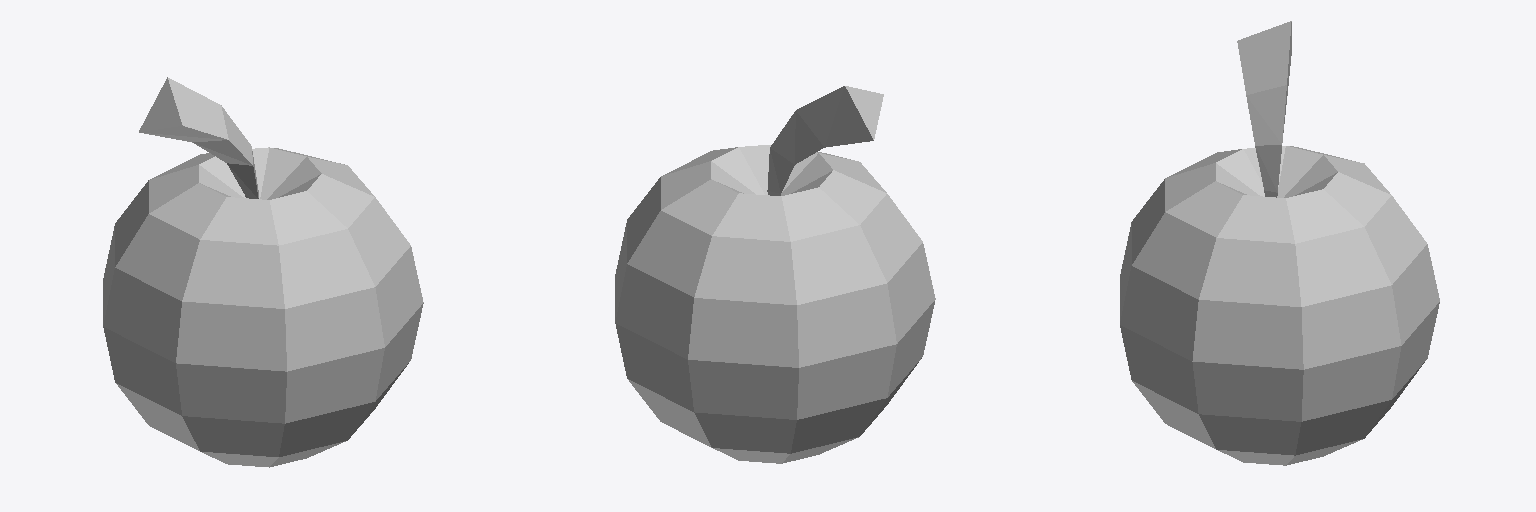
File: aple_01.obj
3 renders of one model, left to right at view 1: azimuth 30°, elevation 25°; view 2: azimuth 150°, elevation 25°; view 3: azimuth 270°, elevation 25°, orthographic.
Parts seen in each view (by area): view 1: Sphere; view 2: Sphere; view 3: Sphere.
Part boxes in pixels (left/top/right/bottom): Sphere: left=103, top=77, right=423, bottom=467; Sphere: left=615, top=86, right=935, bottom=463; Sphere: left=1120, top=21, right=1439, bottom=465.
Size of the model in its own units: 1.97 by 2.6 by 1.94.